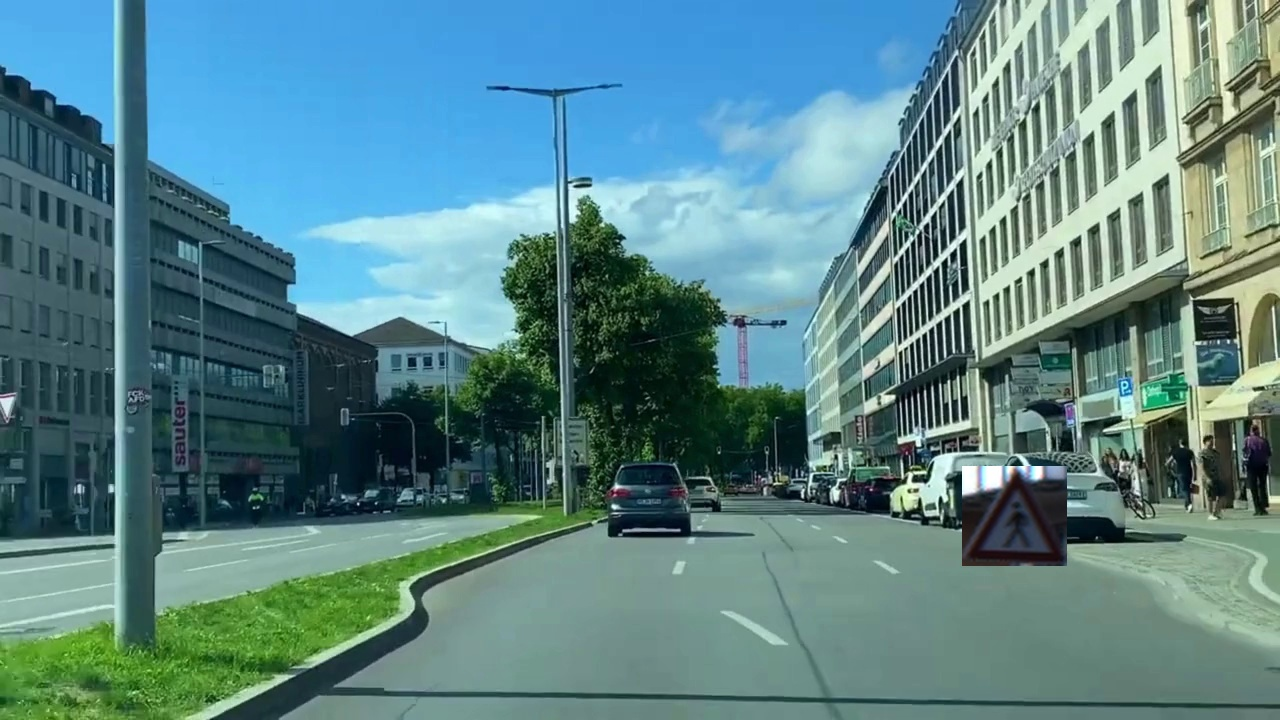Pedestrians: (962, 466, 1067, 566)
